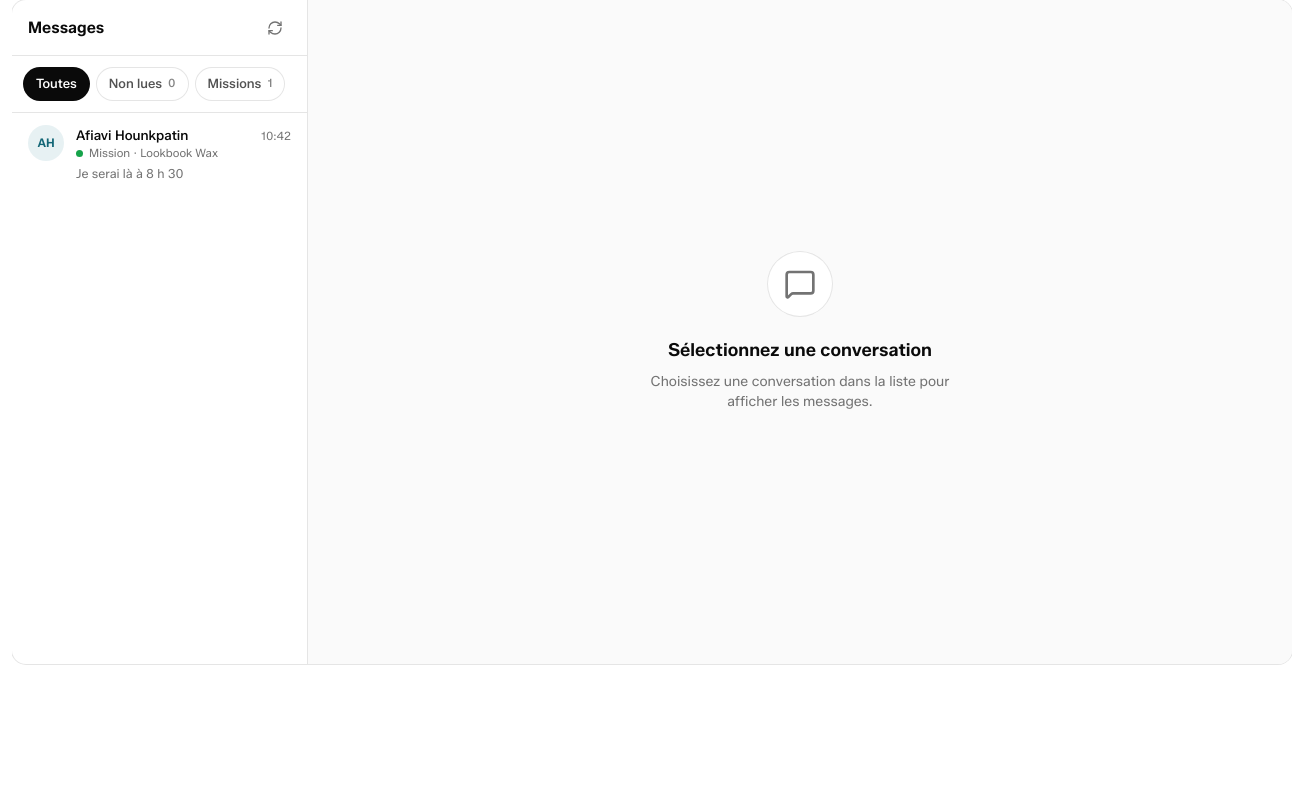
Scenario: MessagesWorkspace — desktop › Producteur : panneau avec cachet, frais de service et total
What coordinates should you click on to do the following:
click the button with test id "conversation-item"
I would click on:
 (160, 154)
Its box is [12,113,307,195].
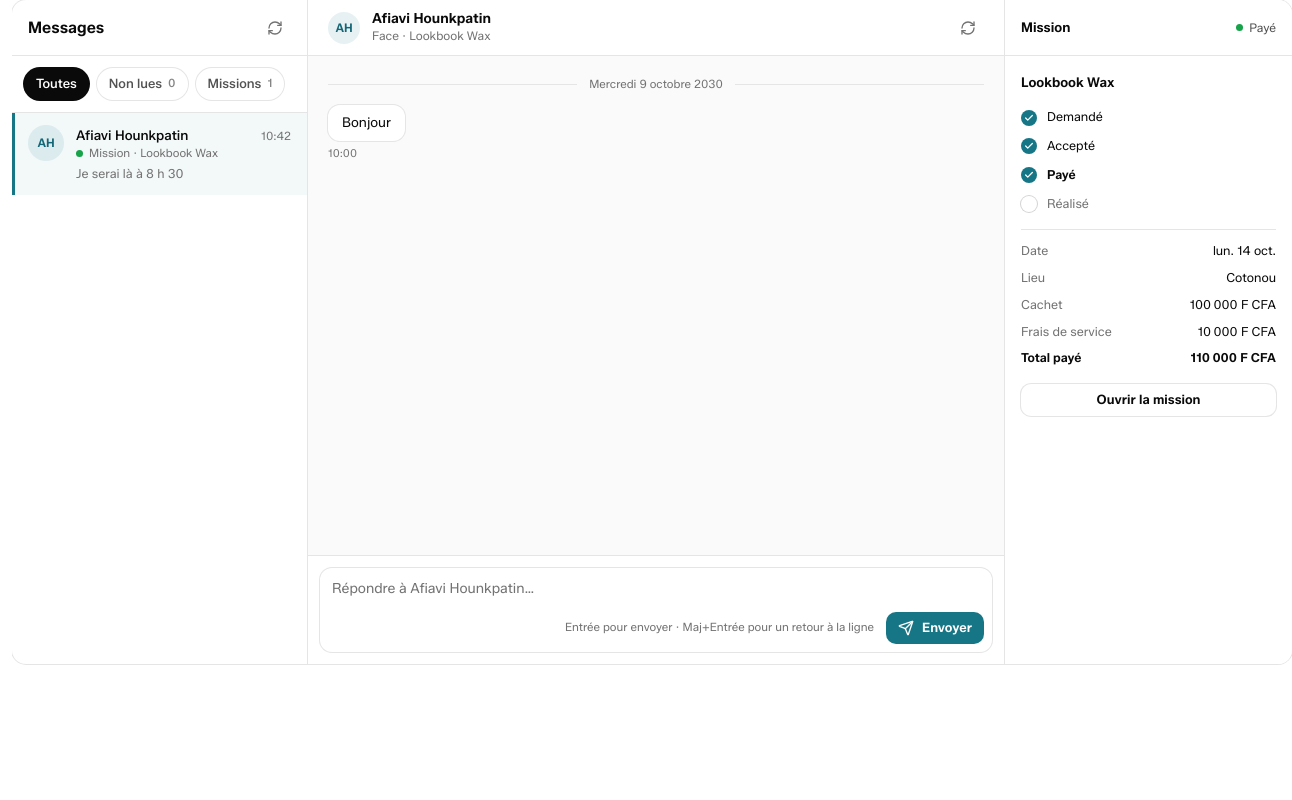
Check: the element with test id "conversation-context-panel" shows "Cachet", box [1021,297,1062,312]
Check: the element with test id "conversation-context-panel" shows "Frais de service", box [1021,324,1112,338]
Check: the element with test id "conversation-context-panel" shows "Total payé", box [1021,350,1081,365]
